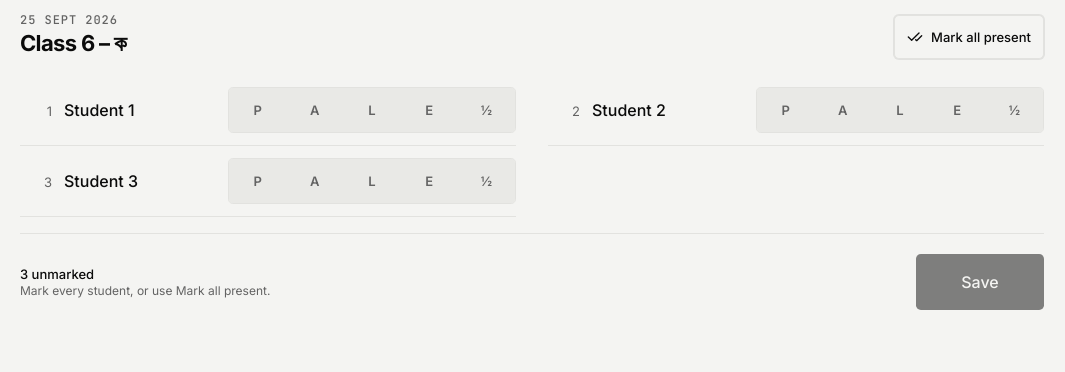
Test: RollCall offline (F-ID-11 Part 2a) › offline: keeps the roll on the phone instead of sending it
Click the button "Mark all present".
click(969, 37)  # box [894, 15, 1044, 59]
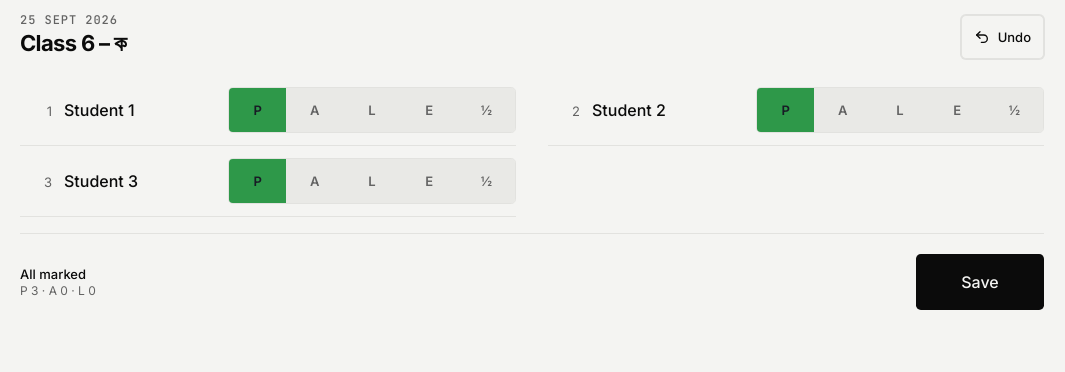
Click the button "Save".
click(980, 282)  # box [916, 254, 1044, 310]
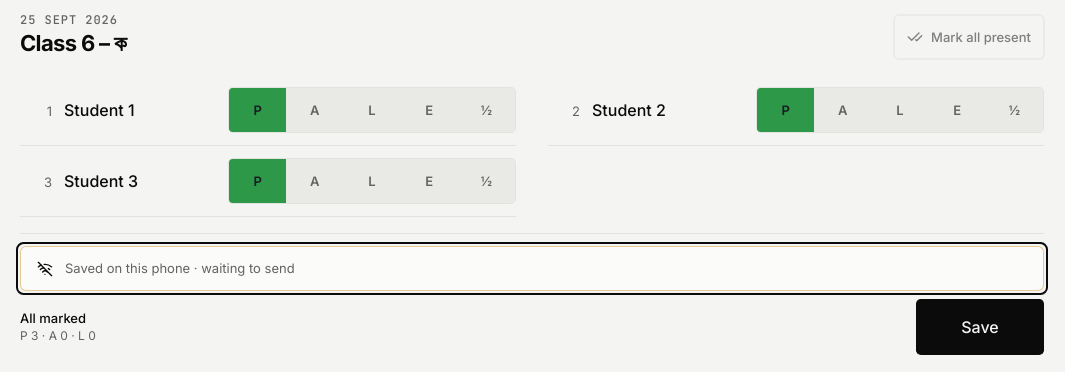
Expected: the text "Saved on this phone · waiting to send" is shown, [65, 260, 295, 276]
